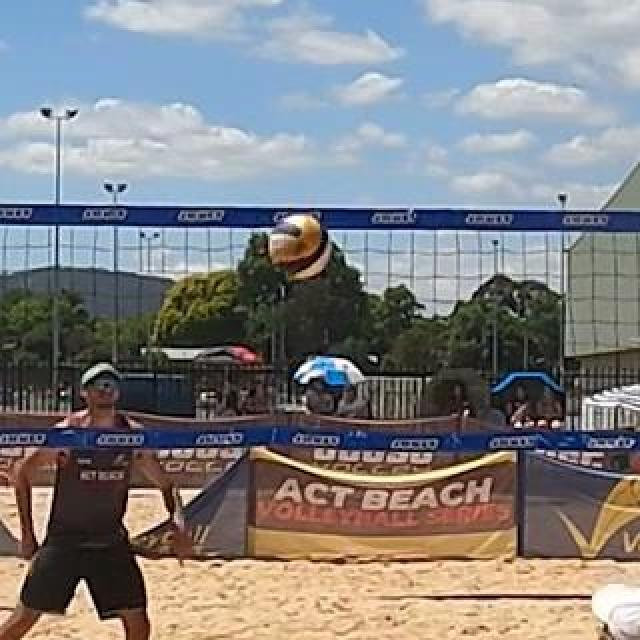volleyball: (268, 215, 330, 279)
